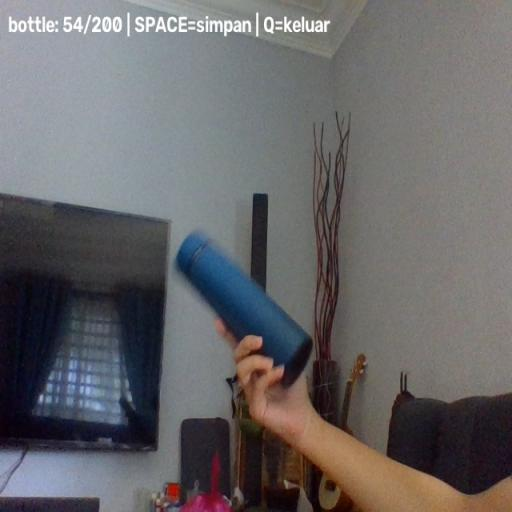Bottle: (176, 230, 313, 388)
